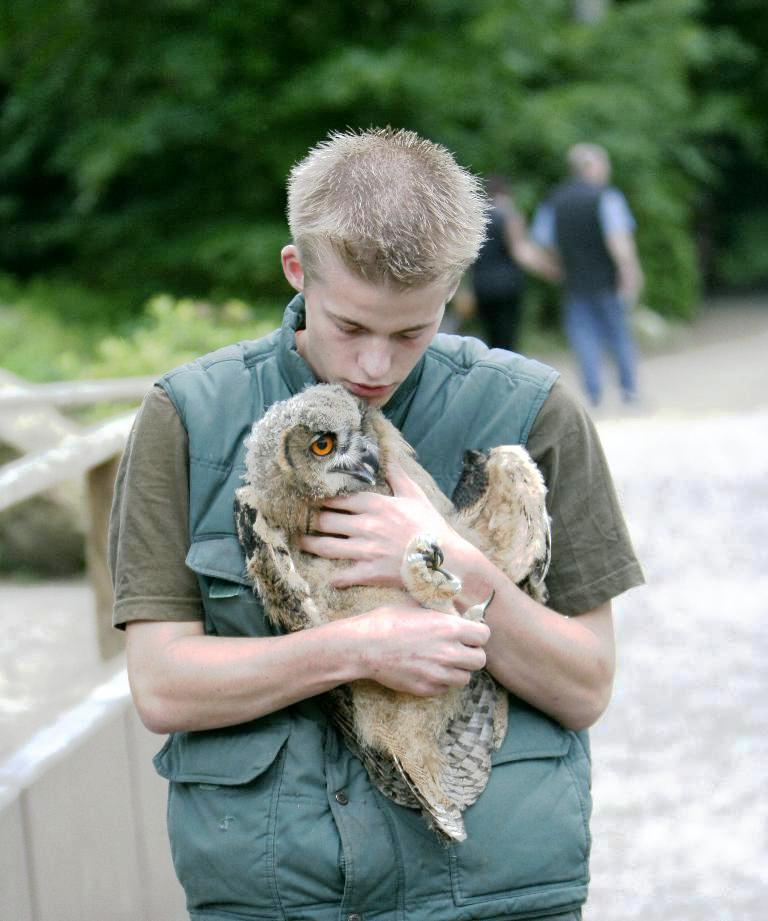Owl: (233, 380, 560, 842)
